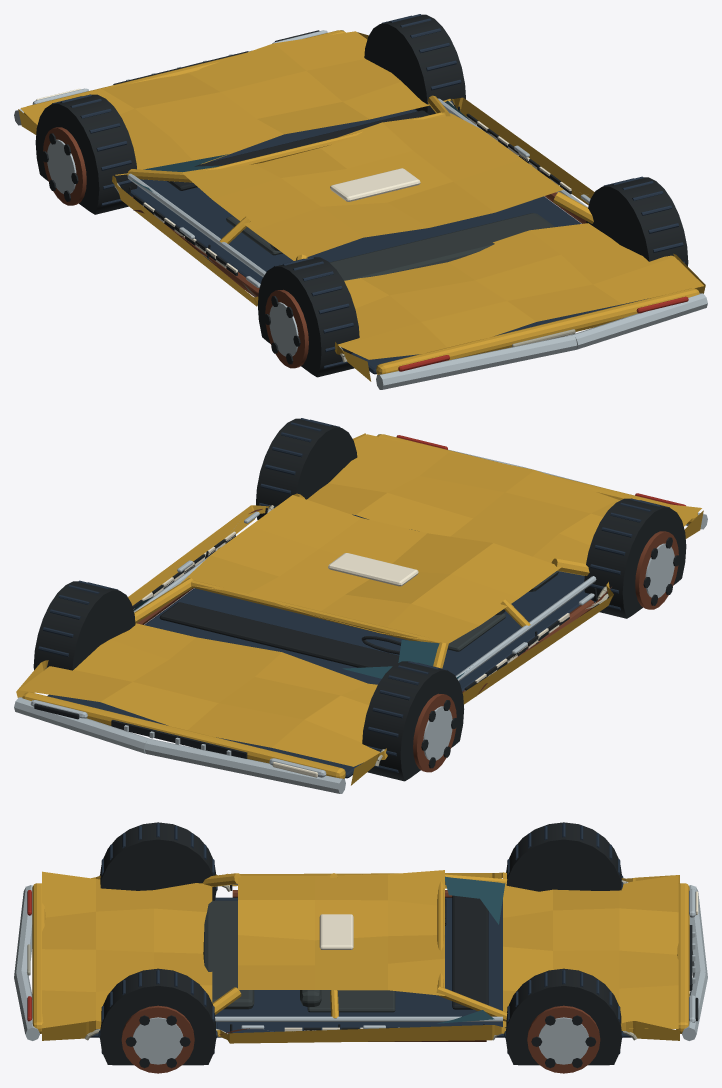
The model's file is crush_car_2_folded.glb.
3 renders of one model, top to bottom at view 1: azimuth 30°, elevation 25°; view 2: azimuth 150°, elevation 25°; view 3: azimuth 270°, elevation 25°, orthographic. The views are drawn at different scales.
Visible parts, largest first — view 1: Wreck_Taxi mustard.001, Wreck_Rubber, Wreck_Truss steel, Wreck_Bare alloy, Wreck_Torn charcoal upholstery.005, Wreck_Exposed rust.005, Wreck_Warm white, Wreck_Wreck glass, Wreck_Cracked tail lens.005; view 2: Wreck_Taxi mustard.001, Wreck_Rubber, Wreck_Truss steel, Wreck_Bare alloy, Wreck_Exposed rust.005, Wreck_Warm white, Wreck_Wreck glass, Wreck_Torn charcoal upholstery.005; view 3: Wreck_Taxi mustard.001, Wreck_Rubber, Wreck_Truss steel, Wreck_Bare alloy, Wreck_Torn charcoal upholstery.005, Wreck_Exposed rust.005, Wreck_Wreck glass, Wreck_Warm white.
Boxes of the visible parts, <box> form: Wreck_Taxi mustard.001: <box>18,30,705,381</box>; Wreck_Rubber: <box>35,14,688,377</box>; Wreck_Truss steel: <box>52,14,684,374</box>; Wreck_Bare alloy: <box>14,30,707,389</box>; Wreck_Torn charcoal upholstery.005: <box>226,213,554,280</box>; Wreck_Exposed rust.005: <box>43,127,586,368</box>; Wreck_Warm white: <box>36,88,571,273</box>; Wreck_Wreck glass: <box>132,100,468,194</box>; Wreck_Cracked tail lens.005: <box>398,296,688,371</box>; Wreck_Taxi mustard.001: <box>16,433,703,785</box>; Wreck_Rubber: <box>33,418,686,781</box>; Wreck_Truss steel: <box>37,418,669,778</box>; Wreck_Bare alloy: <box>14,434,707,793</box>; Wreck_Exposed rust.005: <box>137,509,678,772</box>; Wreck_Warm white: <box>133,531,569,777</box>; Wreck_Wreck glass: <box>133,597,469,678</box>; Wreck_Torn charcoal upholstery.005: <box>355,515,558,651</box>; Wreck_Taxi mustard.001: <box>32,870,689,1043</box>; Wreck_Rubber: <box>100,822,698,1068</box>; Wreck_Truss steel: <box>90,823,631,1054</box>; Wreck_Bare alloy: <box>14,883,707,1064</box>; Wreck_Torn charcoal upholstery.005: <box>203,900,395,1012</box>; Wreck_Exposed rust.005: <box>121,890,600,1073</box>; Wreck_Wreck glass: <box>437,876,505,1023</box>; Wreck_Warm white: <box>284,891,698,1031</box>.
Bounding box in the file's own units: 2.99 × 0.709 × 5.13.
